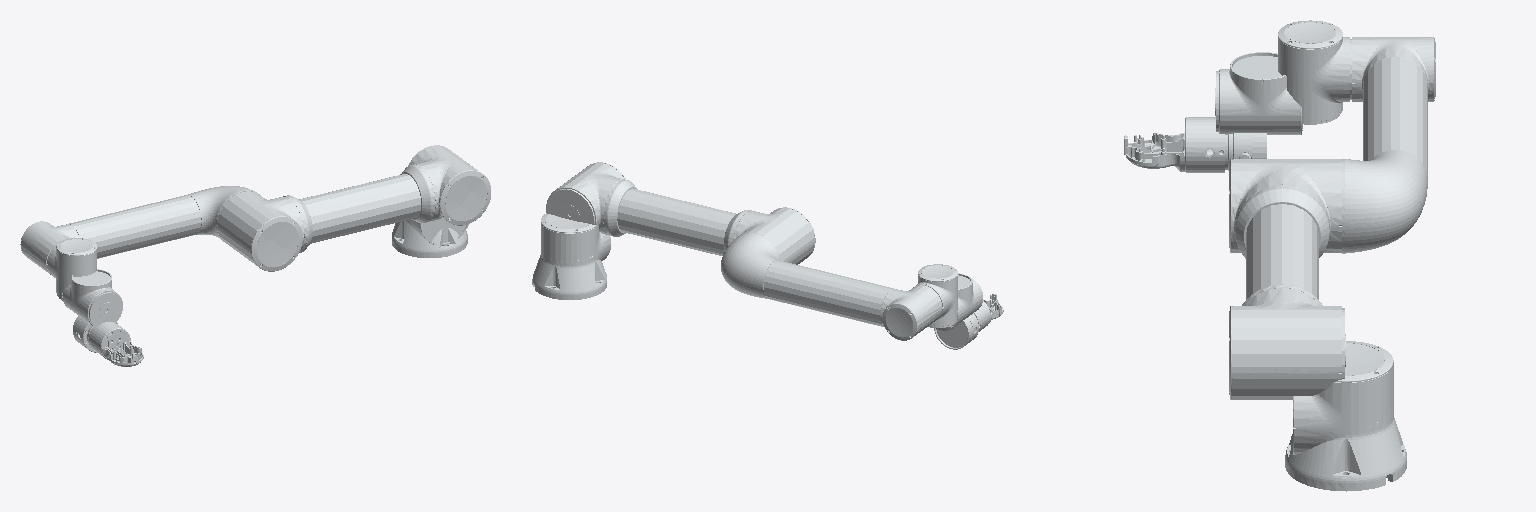
URDF robot description (fairino5_v6_robot):
<?xml version="1.0" encoding="utf-8"?>
<!-- This URDF was automatically created by SolidWorks to URDF Exporter! Originally created by Stephen Brawner (brawner@gmail.com) 
     Commit Version: 1.5.1-0-g916b5db  Build Version: 1.5.7152.31018
     For more information, please see http://wiki.ros.org/sw_urdf_exporter -->
<robot
  name="fairino5_v6_robot">
  <link
    name="base_link">
    <inertial>
      <origin
        xyz="-0.00031896 -0.00029673 0.042463"
        rpy="0 0 0" />
      <mass
        value="1.6185" />
      <inertia
        ixx="0.0030836"
        ixy="1.5354E-05"
        ixz="-1.9315E-05"
        iyy="0.0030825"
        iyz="-1.7918E-05"
        izz="0.0045209" />
    </inertial>
    <visual>
      <origin
        xyz="0 0 0"
        rpy="0 0 0" />
      <geometry>
        <mesh
          filename="package://fairino_description/meshes/fairino5_v6/base_link.STL" />
      </geometry>
      <material
        name="">
        <color
          rgba="0.89804 0.91765 0.92941 1" />
      </material>
    </visual>
    <collision>
      <origin
        xyz="0 0 0"
        rpy="0 0 0" />
      <geometry>
        <mesh
          filename="package://fairino_description/meshes/fairino5_v6/base_link.STL" />
      </geometry>
    </collision>
  </link>
  <link
    name="shoulder_link">
    <inertial>
      <origin
        xyz="5.0029E-07 -0.0040922 0.14629"
        rpy="0 0 0" />
      <mass
        value="4.3771" />
      <inertia
        ixx="0.010731"
        ixy="-8.0587E-09"
        ixz="-3.6773E-08"
        iyy="0.010408"
        iyz="0.00012853"
        izz="0.0081793" />
    </inertial>
    <visual>
      <origin
        xyz="0 0 0"
        rpy="0 0 0" />
      <geometry>
        <mesh
          filename="package://fairino_description/meshes/fairino5_v6/shoulder_link.STL" />
      </geometry>
      <material
        name="">
        <color
          rgba="0.89804 0.91765 0.92941 1" />
      </material>
    </visual>
    <collision>
      <origin
        xyz="0 0 0"
        rpy="0 0 0" />
      <geometry>
        <mesh
          filename="package://fairino_description/meshes/fairino5_v6/shoulder_link.STL" />
      </geometry>
    </collision>
  </link>
  <joint
    name="j1"
    type="revolute">
    <origin
      xyz="0 0 0"
      rpy="0 0 0" />
    <parent
      link="base_link" />
    <child
      link="shoulder_link" />
    <axis
      xyz="0 0 1" />
    <limit
      lower="-3.0543"
      upper="3.0543"
      effort="150"
      velocity="3.15" />
    <calibration
      rising="0"
      falling="0" />
    <dynamics
      damping="0"
      friction="0" />
    <safety_controller
      soft_lower_limit="-3.0543"
      soft_upper_limit="3.0543"
      k_position="15"
      k_velocity="10" />
  </joint>
  <link
    name="upperarm_link">
    <inertial>
      <origin
        xyz="-0.2125 -5.7643E-09 0.1346"
        rpy="0 0 0" />
      <mass
        value="14.458" />
      <inertia
        ixx="0.028392"
        ixy="-1.337E-07"
        ixz="-3.9895E-09"
        iyy="0.4559"
        iyz="4.214E-08"
        izz="0.44974" />
    </inertial>
    <visual>
      <origin
        xyz="0 0 0"
        rpy="0 0 0" />
      <geometry>
        <mesh
          filename="package://fairino_description/meshes/fairino5_v6/upperarm_link.STL" />
      </geometry>
      <material
        name="">
        <color
          rgba="0.89804 0.91765 0.92941 1" />
      </material>
    </visual>
    <collision>
      <origin
        xyz="0 0 0"
        rpy="0 0 0" />
      <geometry>
        <mesh
          filename="package://fairino_description/meshes/fairino5_v6/upperarm_link.STL" />
      </geometry>
    </collision>
  </link>
  <joint
    name="j2"
    type="revolute">
    <origin
      xyz="0 0 0.152"
      rpy="1.5708 0 0" />
    <parent
      link="shoulder_link" />
    <child
      link="upperarm_link" />
    <axis
      xyz="0 0 1" />
    <limit
      lower="-4.6251"
      upper="1.4835"
      effort="150"
      velocity="3.15" />
    <calibration
      rising="0"
      falling="0" />
    <dynamics
      damping="0"
      friction="0" />
    <safety_controller
      soft_lower_limit="-4.6251"
      soft_upper_limit="1.4835"
      k_position="15"
      k_velocity="10" />
  </joint>
  <link
    name="forearm_link">
    <inertial>
      <origin
        xyz="-0.18793 -8.4503E-07 0.0066357"
        rpy="0 0 0" />
      <mass
        value="7.6737" />
      <inertia
        ixx="0.0085096"
        ixy="2.1613E-06"
        ixz="-0.0068678"
        iyy="0.16971"
        iyz="3.7086E-08"
        izz="0.16854" />
    </inertial>
    <visual>
      <origin
        xyz="0 0 0"
        rpy="0 0 0" />
      <geometry>
        <mesh
          filename="package://fairino_description/meshes/fairino5_v6/forearm_link.STL" />
      </geometry>
      <material
        name="">
        <color
          rgba="0.89804 0.91765 0.92941 1" />
      </material>
    </visual>
    <collision>
      <origin
        xyz="0 0 0"
        rpy="0 0 0" />
      <geometry>
        <mesh
          filename="package://fairino_description/meshes/fairino5_v6/forearm_link.STL" />
      </geometry>
    </collision>
  </link>
  <joint
    name="j3"
    type="revolute">
    <origin
      xyz="-0.425 0 0"
      rpy="0 0 0" />
    <parent
      link="upperarm_link" />
    <child
      link="forearm_link" />
    <axis
      xyz="0 0 1" />
    <limit
      lower="-2.8274"
      upper="2.8274"
      effort="150"
      velocity="3.15" />
    <calibration
      rising="0"
      falling="0" />
    <dynamics
      damping="0"
      friction="0" />
    <safety_controller
      soft_lower_limit="-2.8274"
      soft_upper_limit="2.8274"
      k_position="15"
      k_velocity="10" />
  </joint>
  <link
    name="wrist1_link">
    <inertial>
      <origin
        xyz="4.98E-07 -0.003754 0.097155"
        rpy="0 0 0" />
      <mass
        value="1.6266" />
      <inertia
        ixx="0.00216"
        ixy="4.888E-09"
        ixz="3.1528E-08"
        iyy="0.0015455"
        iyz="3.7678E-05"
        izz="0.0019902" />
    </inertial>
    <visual>
      <origin
        xyz="0 0 0"
        rpy="0 0 0" />
      <geometry>
        <mesh
          filename="package://fairino_description/meshes/fairino5_v6/wrist1_link.STL" />
      </geometry>
      <material
        name="">
        <color
          rgba="0.89804 0.91765 0.92941 1" />
      </material>
    </visual>
    <collision>
      <origin
        xyz="0 0 0"
        rpy="0 0 0" />
      <geometry>
        <mesh
          filename="package://fairino_description/meshes/fairino5_v6/wrist1_link.STL" />
      </geometry>
    </collision>
  </link>
  <joint
    name="j4"
    type="revolute">
    <origin
      xyz="-0.39501 0 0"
      rpy="0 0 0" />
    <parent
      link="forearm_link" />
    <child
      link="wrist1_link" />
    <axis
      xyz="0 0 1" />
    <limit
      lower="-4.6251"
      upper="1.4835"
      effort="28"
      velocity="3.2" />
    <calibration
      rising="0"
      falling="0" />
    <dynamics
      damping="0"
      friction="0" />
    <safety_controller
      soft_lower_limit="-4.6251"
      soft_upper_limit="1.4835"
      k_position="15"
      k_velocity="10" />
  </joint>
  <link
    name="wrist2_link">
    <inertial>
      <origin
        xyz="-4.5588E-07 0.0038617 0.098257"
        rpy="0 0 0" />
      <mass
        value="1.5812" />
      <inertia
        ixx="0.0020612"
        ixy="8.7064E-09"
        ixz="-3.4742E-08"
        iyy="0.0014477"
        iyz="-2.8534E-05"
        izz="0.0019573" />
    </inertial>
    <visual>
      <origin
        xyz="0 0 0"
        rpy="0 0 0" />
      <geometry>
        <mesh
          filename="package://fairino_description/meshes/fairino5_v6/wrist2_link.STL" />
      </geometry>
      <material
        name="">
        <color
          rgba="0.89804 0.91765 0.92941 1" />
      </material>
    </visual>
    <collision>
      <origin
        xyz="0 0 0"
        rpy="0 0 0" />
      <geometry>
        <mesh
          filename="package://fairino_description/meshes/fairino5_v6/wrist2_link.STL" />
      </geometry>
    </collision>
  </link>
  <joint
    name="j5"
    type="revolute">
    <origin
      xyz="0 0 0.1021"
      rpy="1.5708 0 0" />
    <parent
      link="wrist1_link" />
    <child
      link="wrist2_link" />
    <axis
      xyz="0 0 1" />
    <limit
      lower="-3.0543"
      upper="3.0543"
      effort="28"
      velocity="3.2" />
    <calibration
      rising="0"
      falling="0" />
    <dynamics
      damping="0"
      friction="0" />
    <safety_controller
      soft_lower_limit="-3.0543"
      soft_upper_limit="3.0543"
      k_position="15"
      k_velocity="10" />
  </joint>
  <link
    name="wrist3_link">
    <inertial>
      <origin
        xyz="7.7496E-05 1.7751E-05 0.076122"
        rpy="0 0 0" />
      <mass
        value="0.52542" />
      <inertia
        ixx="0.00027721"
        ixy="-1.8677E-09"
        ixz="-1.188E-07"
        iyy="0.00027839"
        iyz="2.2607E-07"
        izz="0.00041605" />
    </inertial>
    <visual>
      <origin
        xyz="0 0 0"
        rpy="0 0 0" />
      <geometry>
        <mesh
          filename="package://fairino_description/meshes/fairino5_v6/wrist3_link.STL" />
      </geometry>
      <material
        name="">
        <color
          rgba="0.89804 0.91765 0.92941 1" />
      </material>
    </visual>
    <collision>
      <origin
        xyz="0 0 0"
        rpy="0 0 0" />
      <geometry>
        <mesh
          filename="package://fairino_description/meshes/fairino5_v6/wrist3_link.STL" />
      </geometry>
    </collision>
  </link>
  <joint
    name="j6"
    type="revolute">
    <origin
      xyz="0 0 0.102"
      rpy="-1.5708 0 0" />
    <parent
      link="wrist2_link" />
    <child
      link="wrist3_link" />
    <axis
      xyz="0 0 1" />
    <limit
      lower="-3.0543"
      upper="3.0543"
      effort="28"
      velocity="3.2" />
    <calibration
      rising="0"
      falling="0" />
    <dynamics
      damping="0"
      friction="0" />
    <safety_controller
      soft_lower_limit="-3.0543"
      soft_upper_limit="3.0543"
      k_position="15"
      k_velocity="10" />
  </joint>
</robot>

--- Render facts (derived) ---
3 views of the same robot in one strip: view 1: azimuth 30°, elevation 25°; view 2: azimuth 150°, elevation 25°; view 3: azimuth 270°, elevation 25° (orthographic).
Model fairino5_v6_robot with 7 links and 6 joints (6 revolute), rooted at base_link, posed all joints at 0.
Visible links, largest first — view 1: upperarm_link, forearm_link, wrist2_link, wrist3_link, wrist1_link, base_link, shoulder_link; view 2: upperarm_link, forearm_link, base_link, shoulder_link, wrist1_link, wrist3_link, wrist2_link; view 3: upperarm_link, forearm_link, shoulder_link, wrist1_link, base_link, wrist2_link, wrist3_link.
Link boxes in pixels (x1,y1,x2,y2): upperarm_link: (217, 145, 490, 271); forearm_link: (20, 186, 259, 274); wrist2_link: (62, 269, 122, 326); wrist3_link: (73, 316, 143, 366); wrist1_link: (47, 238, 96, 300); base_link: (392, 220, 467, 257); shoulder_link: (400, 173, 468, 245); upperarm_link: (546, 162, 815, 264); forearm_link: (721, 232, 942, 340); base_link: (532, 251, 606, 299); shoulder_link: (541, 213, 610, 265); wrist1_link: (913, 264, 957, 327); wrist3_link: (934, 294, 1003, 349); wrist2_link: (936, 273, 982, 330); upperarm_link: (1229, 159, 1345, 399); forearm_link: (1342, 37, 1435, 253); shoulder_link: (1293, 341, 1393, 454); wrist1_link: (1278, 20, 1349, 124); base_link: (1285, 412, 1406, 491); wrist2_link: (1215, 52, 1302, 134); wrist3_link: (1124, 117, 1266, 172).
Bounding box of the posed robot: 0.9345 × 0.3808 × 0.21 m (x, y, z).
Meshes: 7 distinct files referenced, 7 mesh visuals loaded (7 binary STL).
